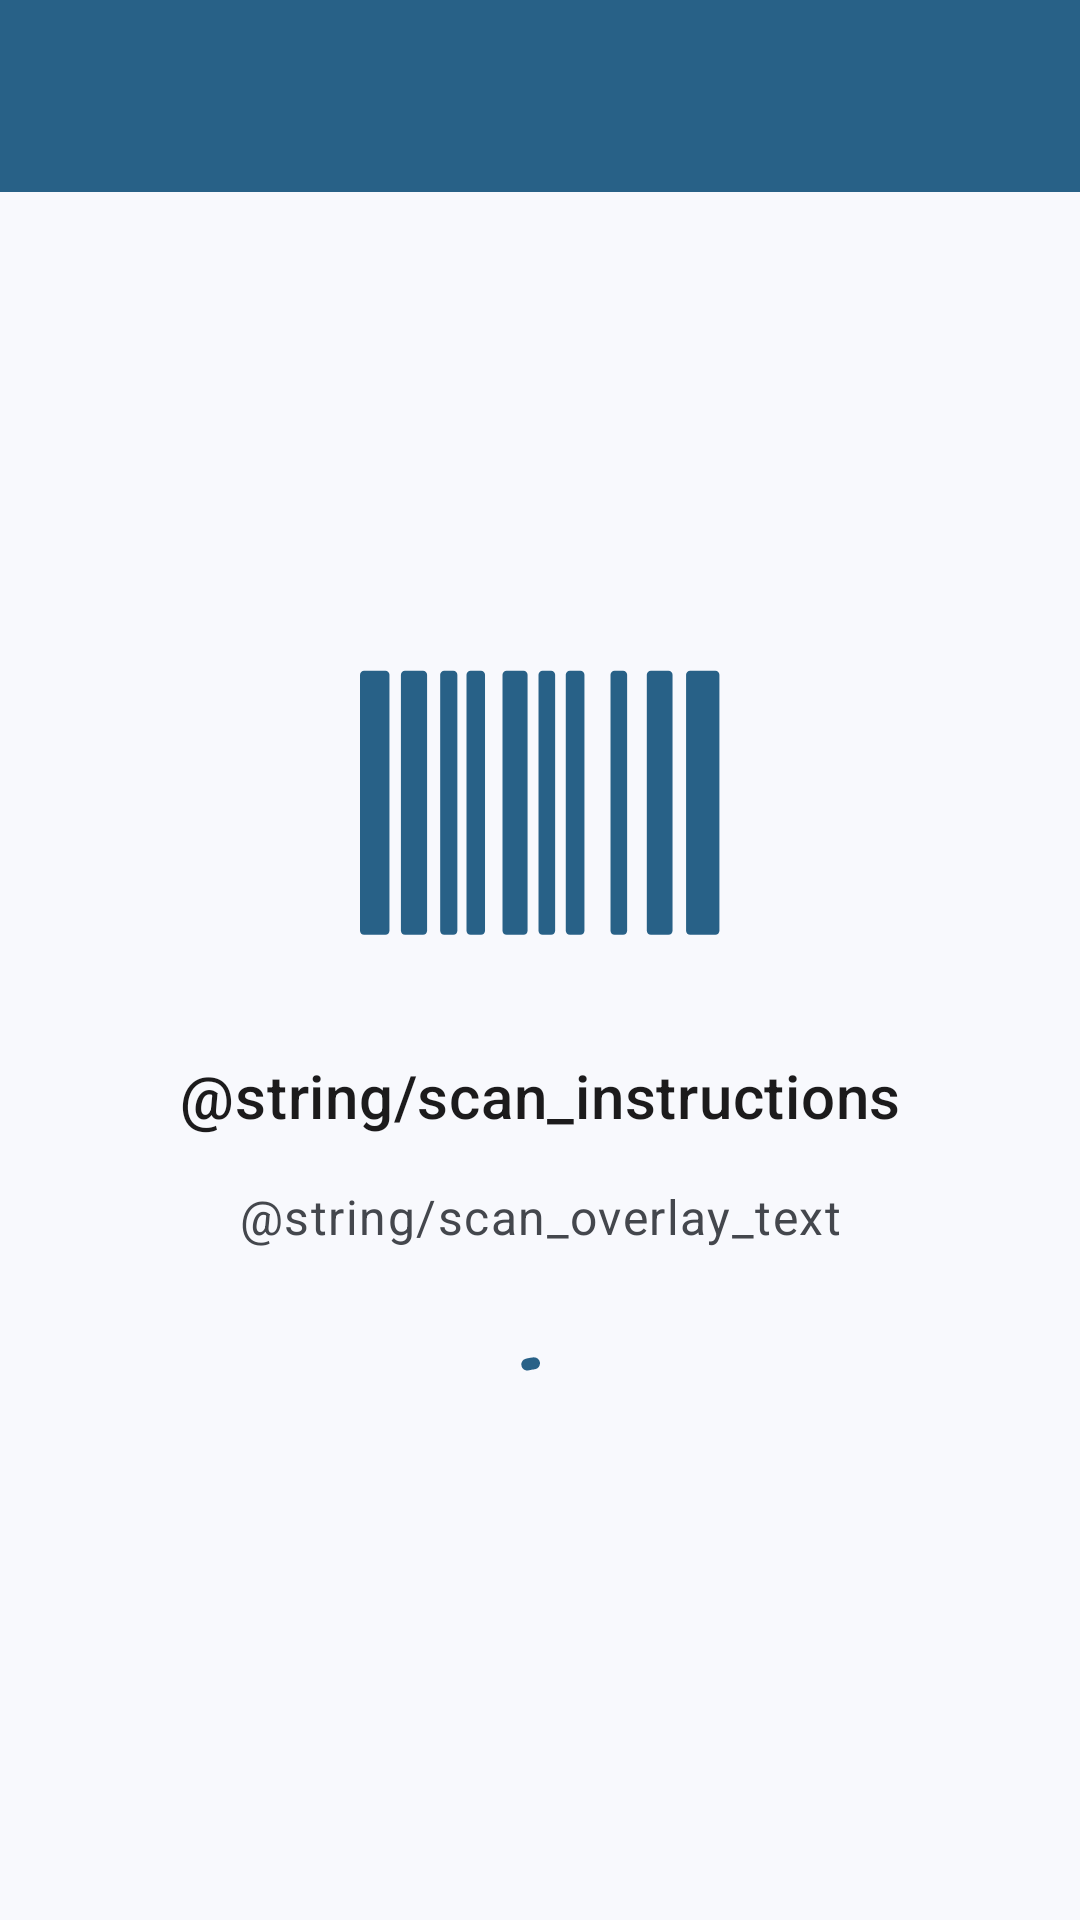

Where icons sit on this 1080px x 1920px app screen, as bbox=[x1, y1, x2, y2]:
Scan Product: bbox=[360, 670, 720, 935]
